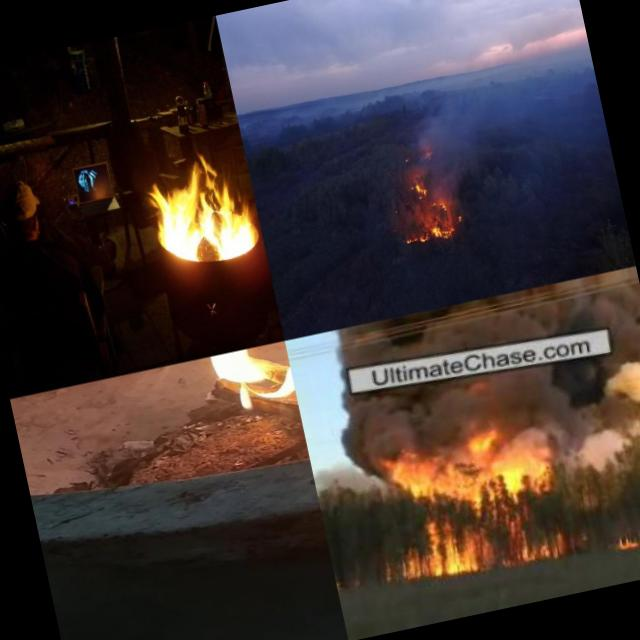fire: (140, 148, 260, 283), (393, 516, 488, 586), (391, 442, 472, 504), (397, 176, 467, 247), (464, 426, 530, 501), (506, 520, 565, 568), (609, 522, 640, 550)
smoke: (331, 374, 515, 461), (408, 94, 482, 198), (514, 401, 608, 470), (590, 350, 640, 441)
